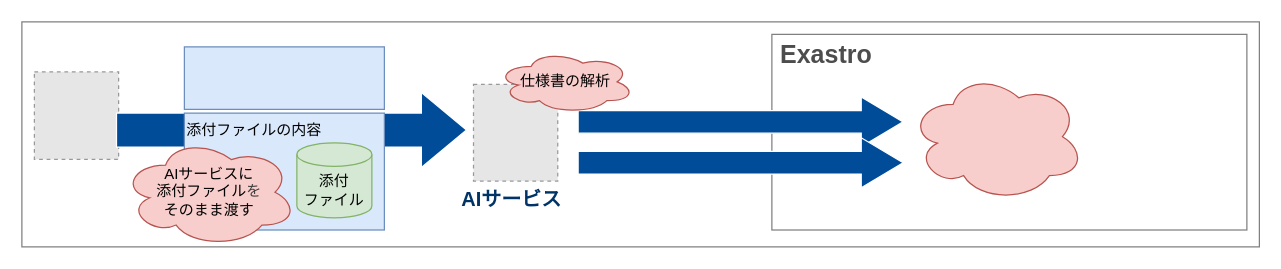
The diagram is 1281 pixels wide and 269 high, and some of its shapes have lost their labels. Grey dashed boxes stand in for pictures. Each missing label, with the box of its shape:
指示文： 添付ファイルの 仕様書に従ってサーバーを構築 して: (183, 46, 384, 109)
様々なツールの 呼び出し: (908, 71, 1084, 202)
